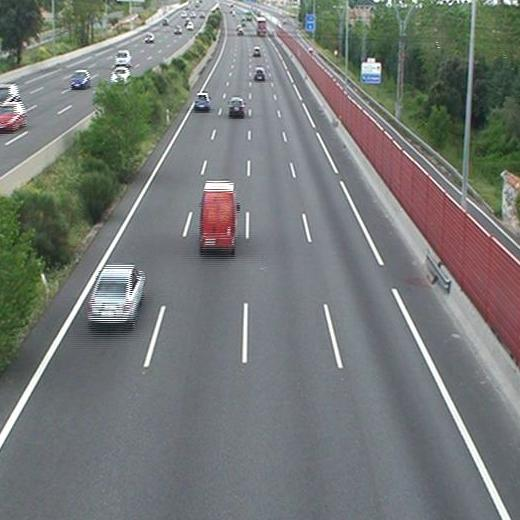car: (88, 265, 144, 320), (195, 93, 211, 110), (229, 98, 244, 115), (254, 68, 264, 81), (253, 48, 261, 56)
truck: (257, 18, 266, 37)
van: (202, 183, 237, 247)
